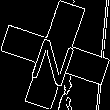N_N: (28, 25, 82, 85)
